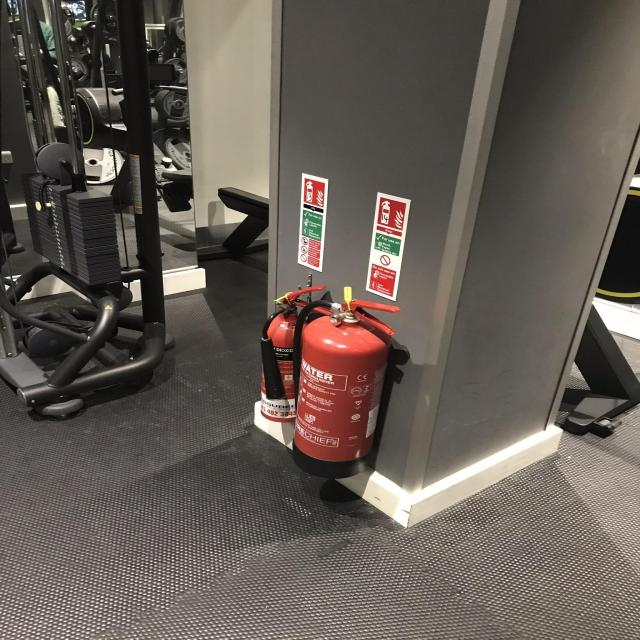fire_extinguisher: (287, 287, 407, 481), (254, 281, 336, 426)
